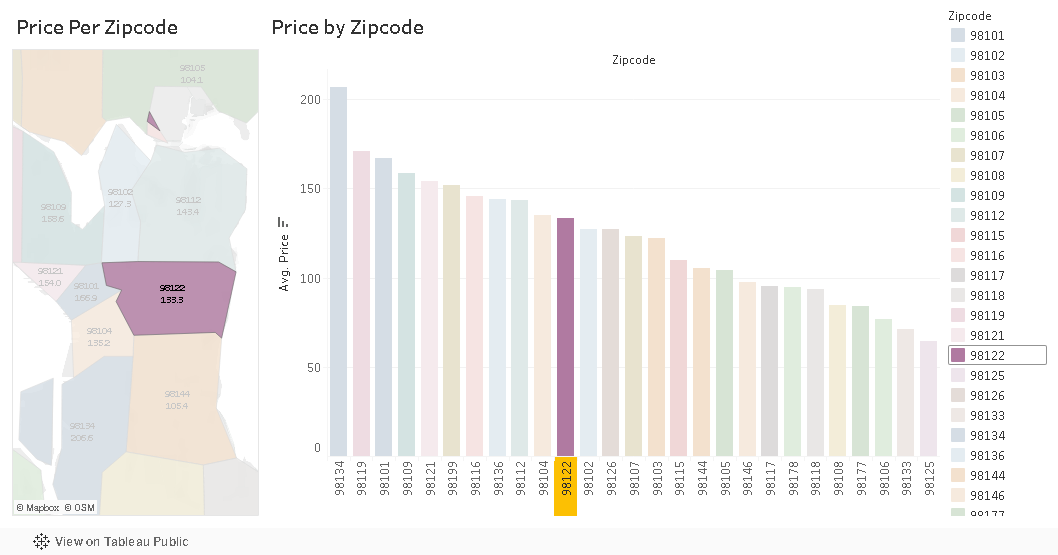

What the dashboard file says about the page in this screenshot:
{"tool":"tableau","page":{"name":"Dashboard 1","canvas":[1000,1000],"units":"permille","ordinal":0},"visuals":[{"type":"worksheet","title":"Sheet 4","mark":"Automatic","rows":["price"],"cols":["bedrooms"],"box":[8.7,9.4,830.2,490.6]},{"type":"worksheet","title":"Sheet 5","mark":"Automatic","rows":["bedrooms"],"box":[838.9,9.4,152.5,490.6]},{"type":"worksheet","title":"Sheet 2","mark":"Multipolygon","box":[8.7,500,131.8,490.6]},{"type":"worksheet","title":"Sheet 1","mark":"Automatic","rows":["price"],"cols":["zipcode"],"box":[140.4,500,351.6,490.6]},{"type":"legend","title":"Sheet 1","param":"[federated.13z3k8d0bdjrq314dm8i90usvk0z].[none:zipcode:ok]","box":[492,500,63.8,490.6]},{"type":"worksheet","title":"Sheet 3","mark":"Automatic","rows":["price (Calendar)"],"cols":["date"],"box":[555.8,500,435.5,490.6]}]}

Visuals, with their boxes on the dashboard's canvas, which has no fixed pixel size, in thousandths of its width and height (x1, y1, x2, y2). These are canvas units, not pixel positions in the 1058x555 screenshot, which may show the page scaled, cropped or inside an application window:
"Sheet 4" worksheet: 9:9:839:500
"Sheet 5" worksheet: 839:9:991:500
"Sheet 2" worksheet (Multipolygon marks): 9:500:140:991
"Sheet 1" worksheet: 140:500:492:991
"Sheet 1" legend: 492:500:556:991
"Sheet 3" worksheet: 556:500:991:991
